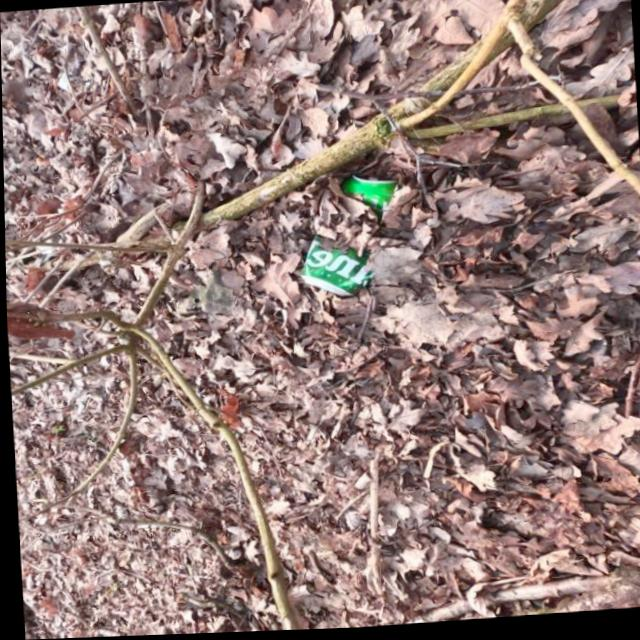Can-Metal: (292, 169, 404, 302)
